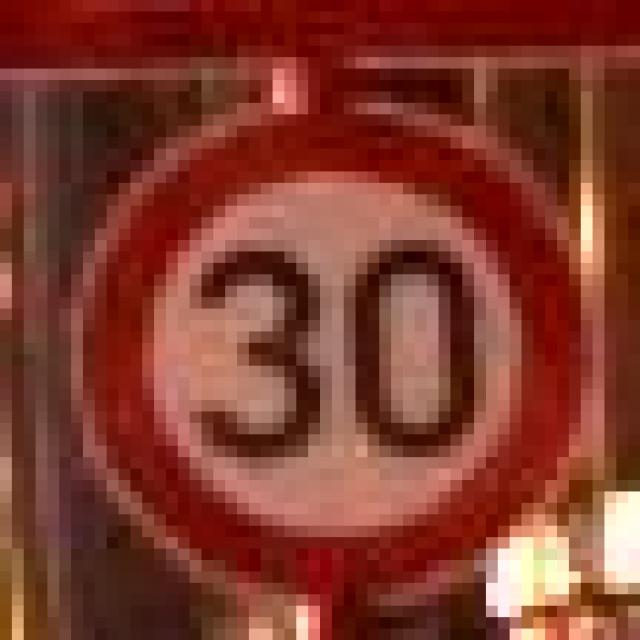speed limit 30: (59, 105, 575, 607)
